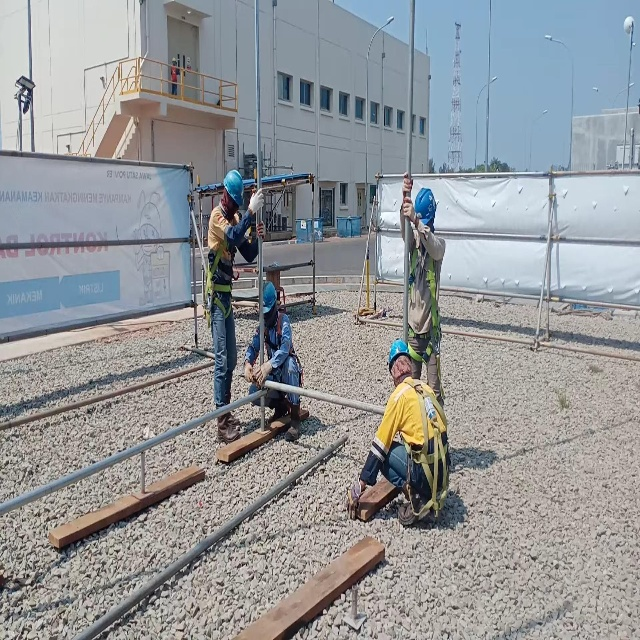Arnes_seguridad: (395, 375, 452, 519), (405, 234, 441, 363), (262, 317, 305, 403), (205, 232, 234, 328)
